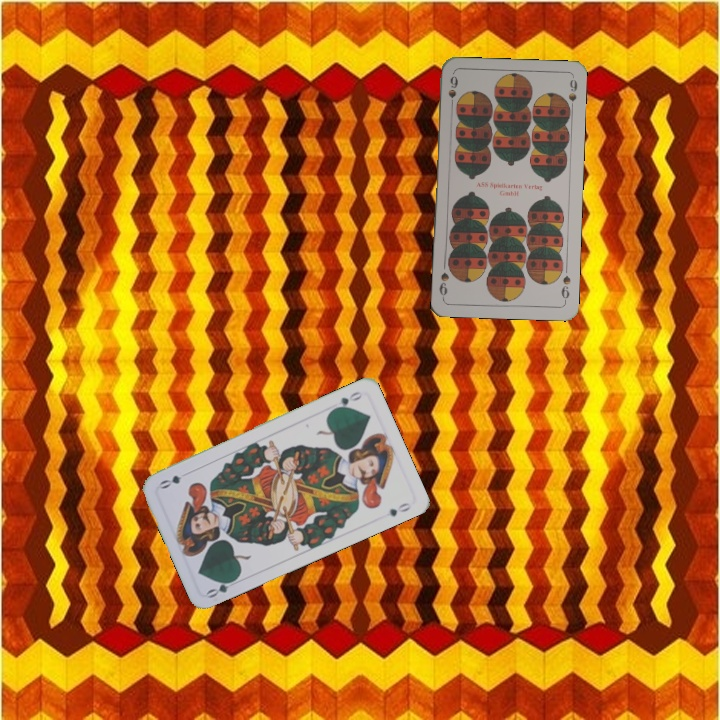GO: (203, 573, 240, 601), (328, 387, 365, 413)
S9: (444, 72, 460, 112), (558, 271, 573, 305)
